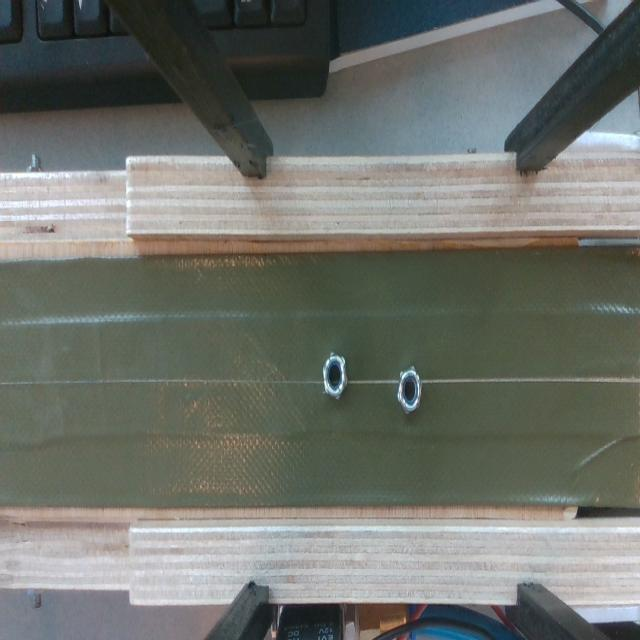Nut: (398, 366, 421, 414), (322, 354, 346, 398)
